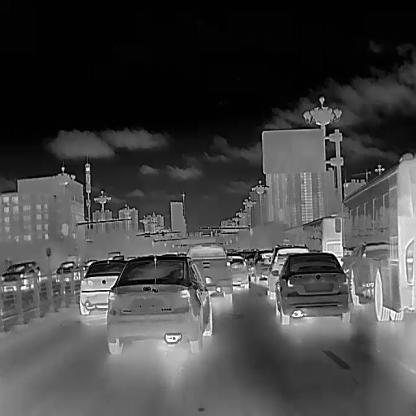bus: (340, 155, 416, 320), (302, 216, 343, 258)
car: (106, 254, 212, 354), (274, 251, 350, 325), (183, 243, 232, 296), (79, 260, 127, 314), (266, 243, 309, 299), (0, 262, 37, 292), (225, 252, 249, 288), (252, 249, 272, 282), (55, 260, 80, 282), (20, 260, 41, 283), (243, 251, 257, 281), (82, 258, 97, 276), (107, 251, 120, 261)
